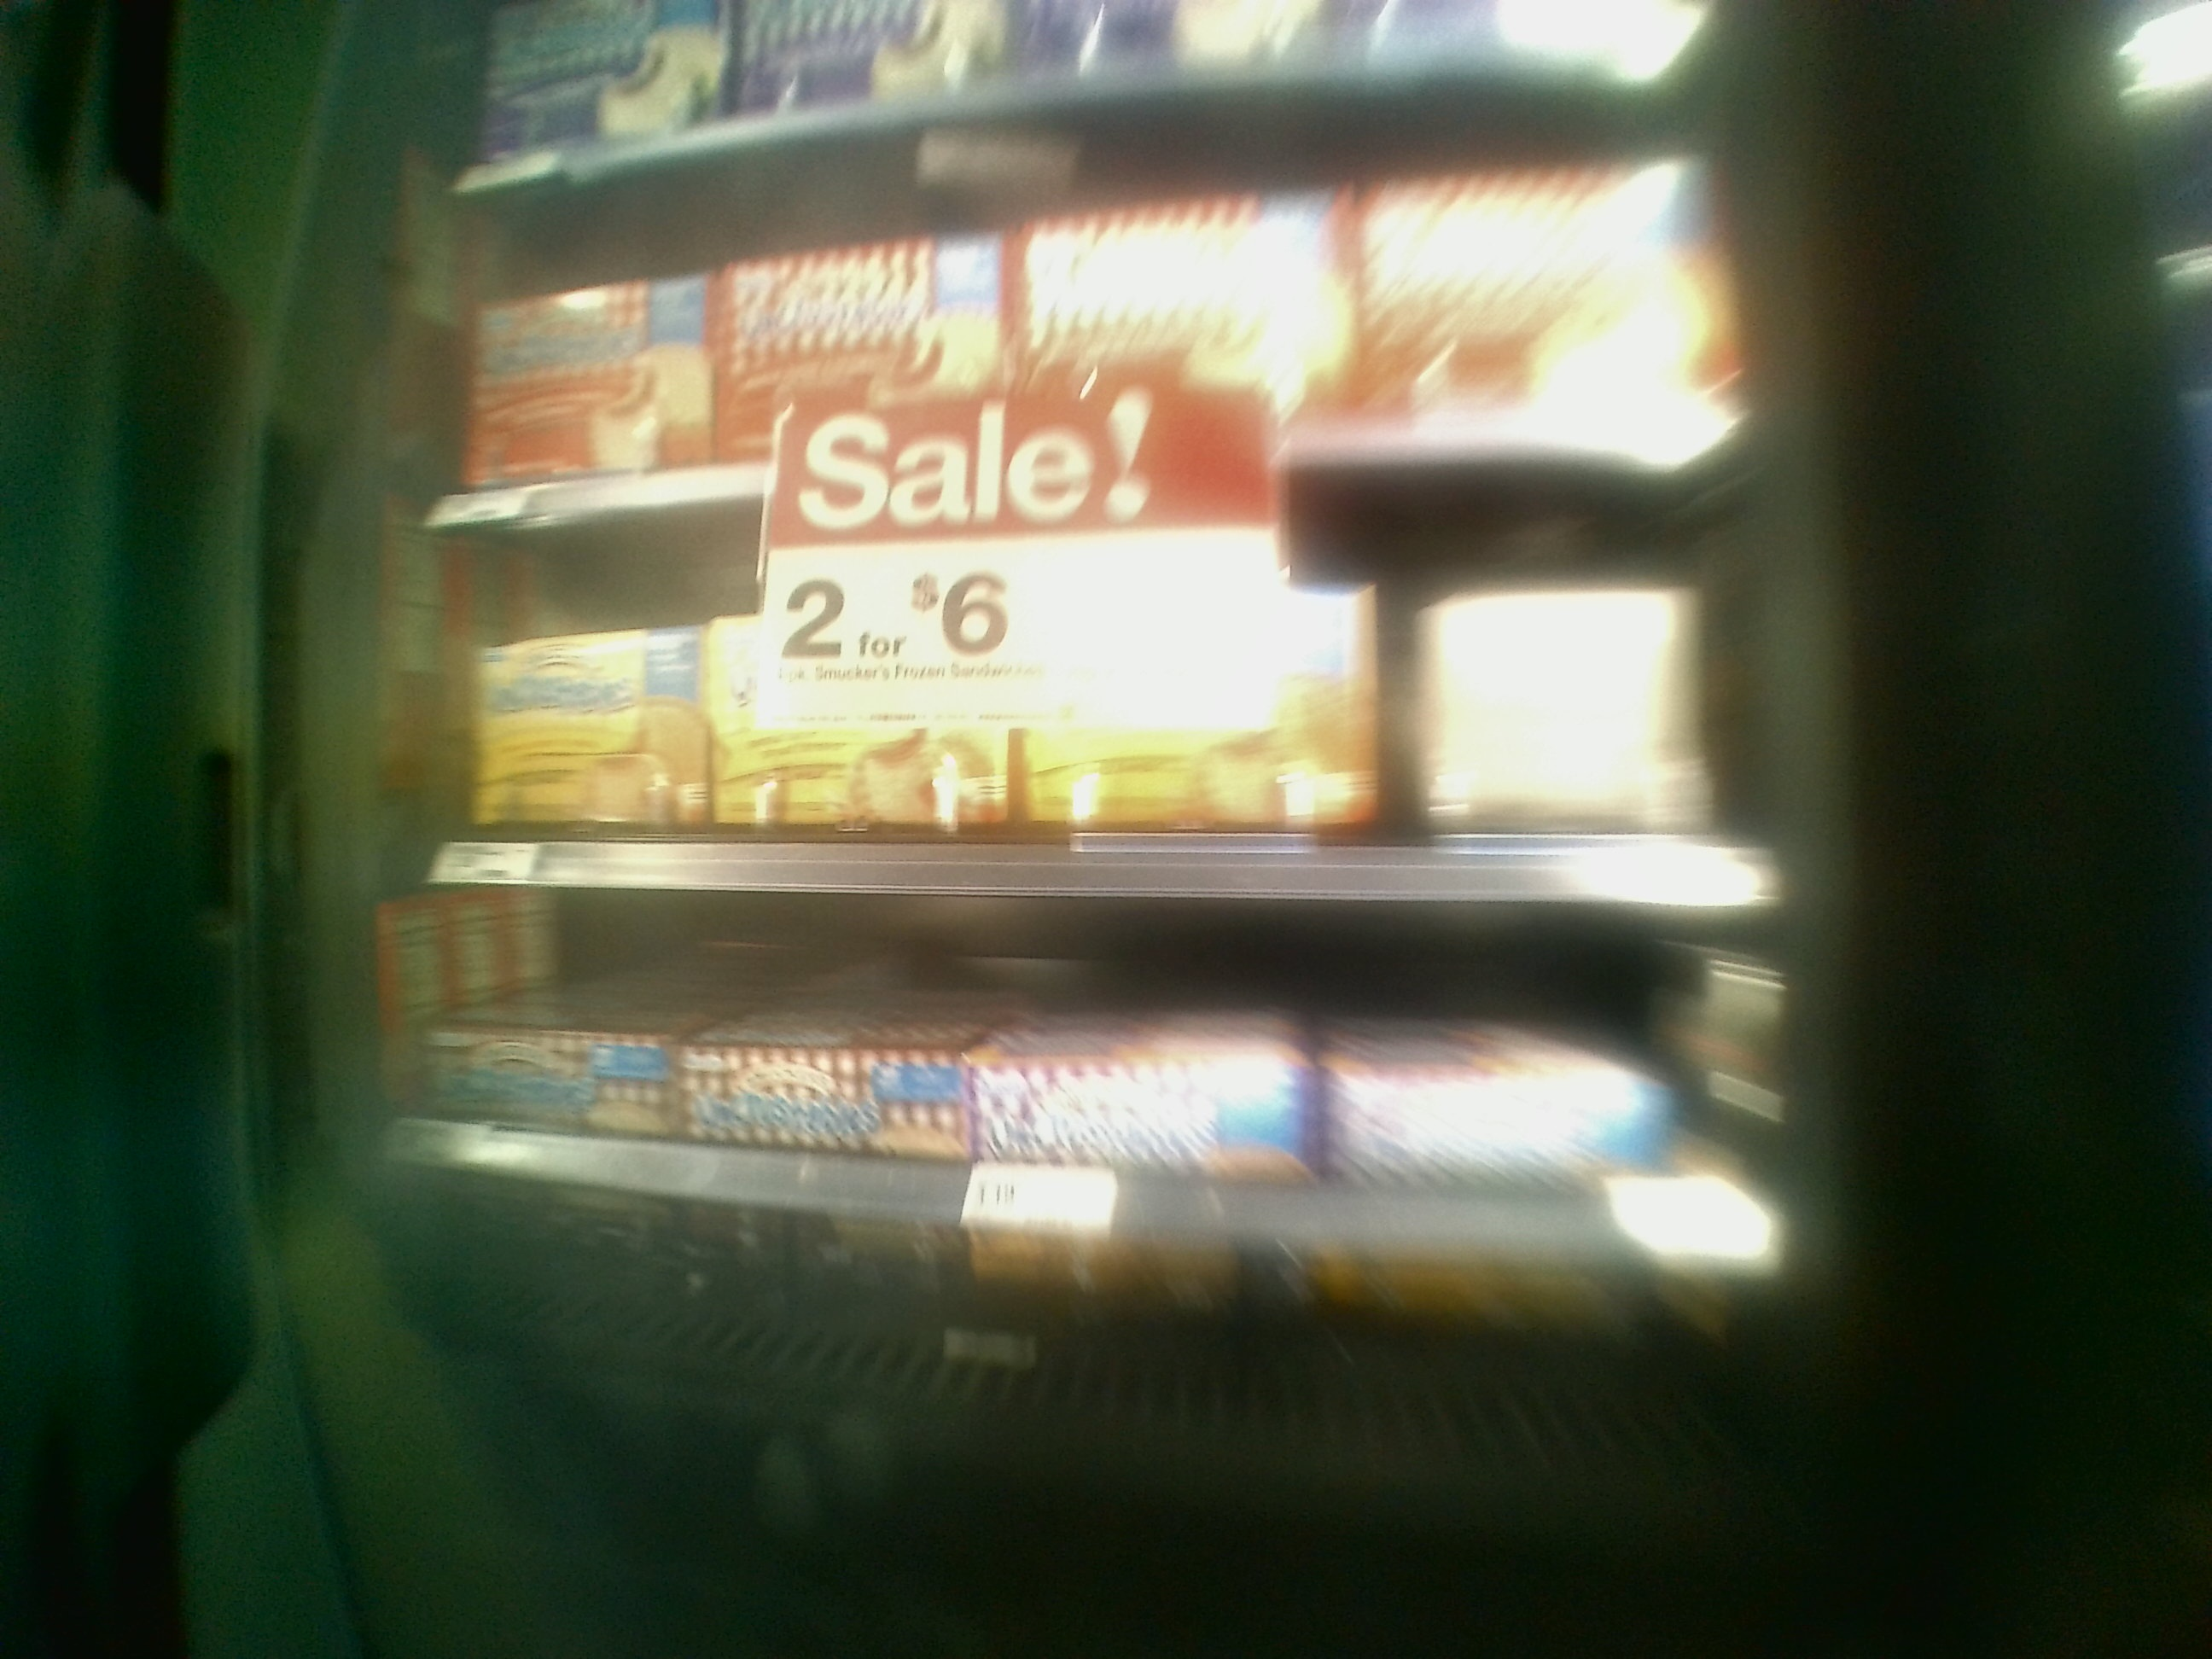shelf: (413, 507, 1778, 913)
